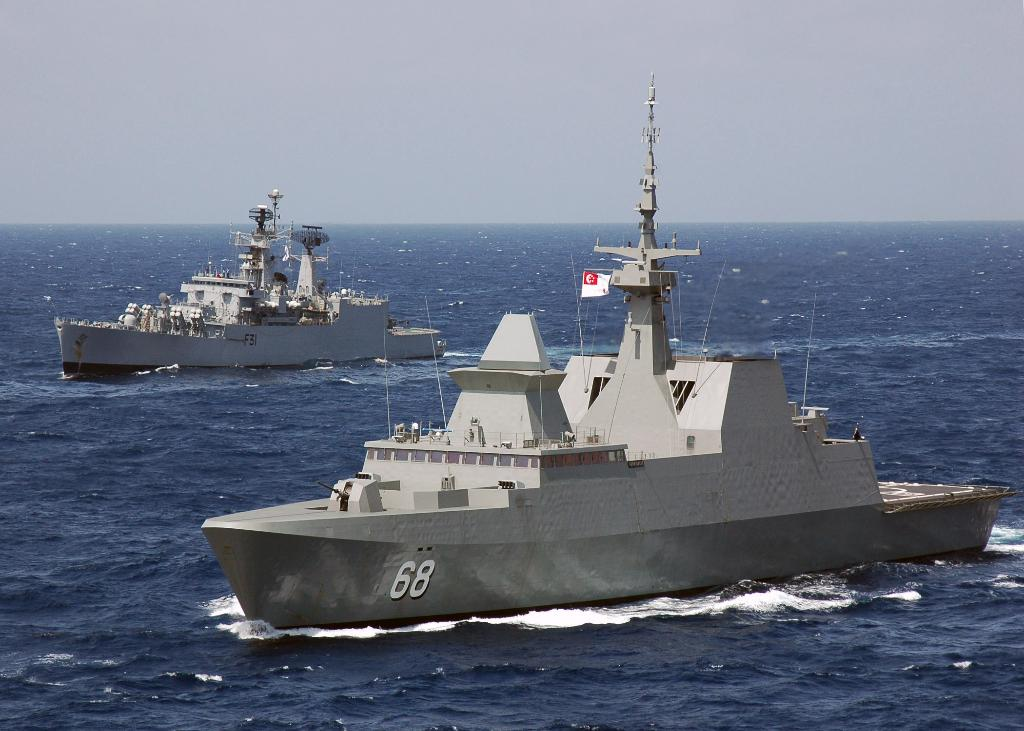Warship: (198, 81, 1018, 652), (42, 194, 456, 382)
